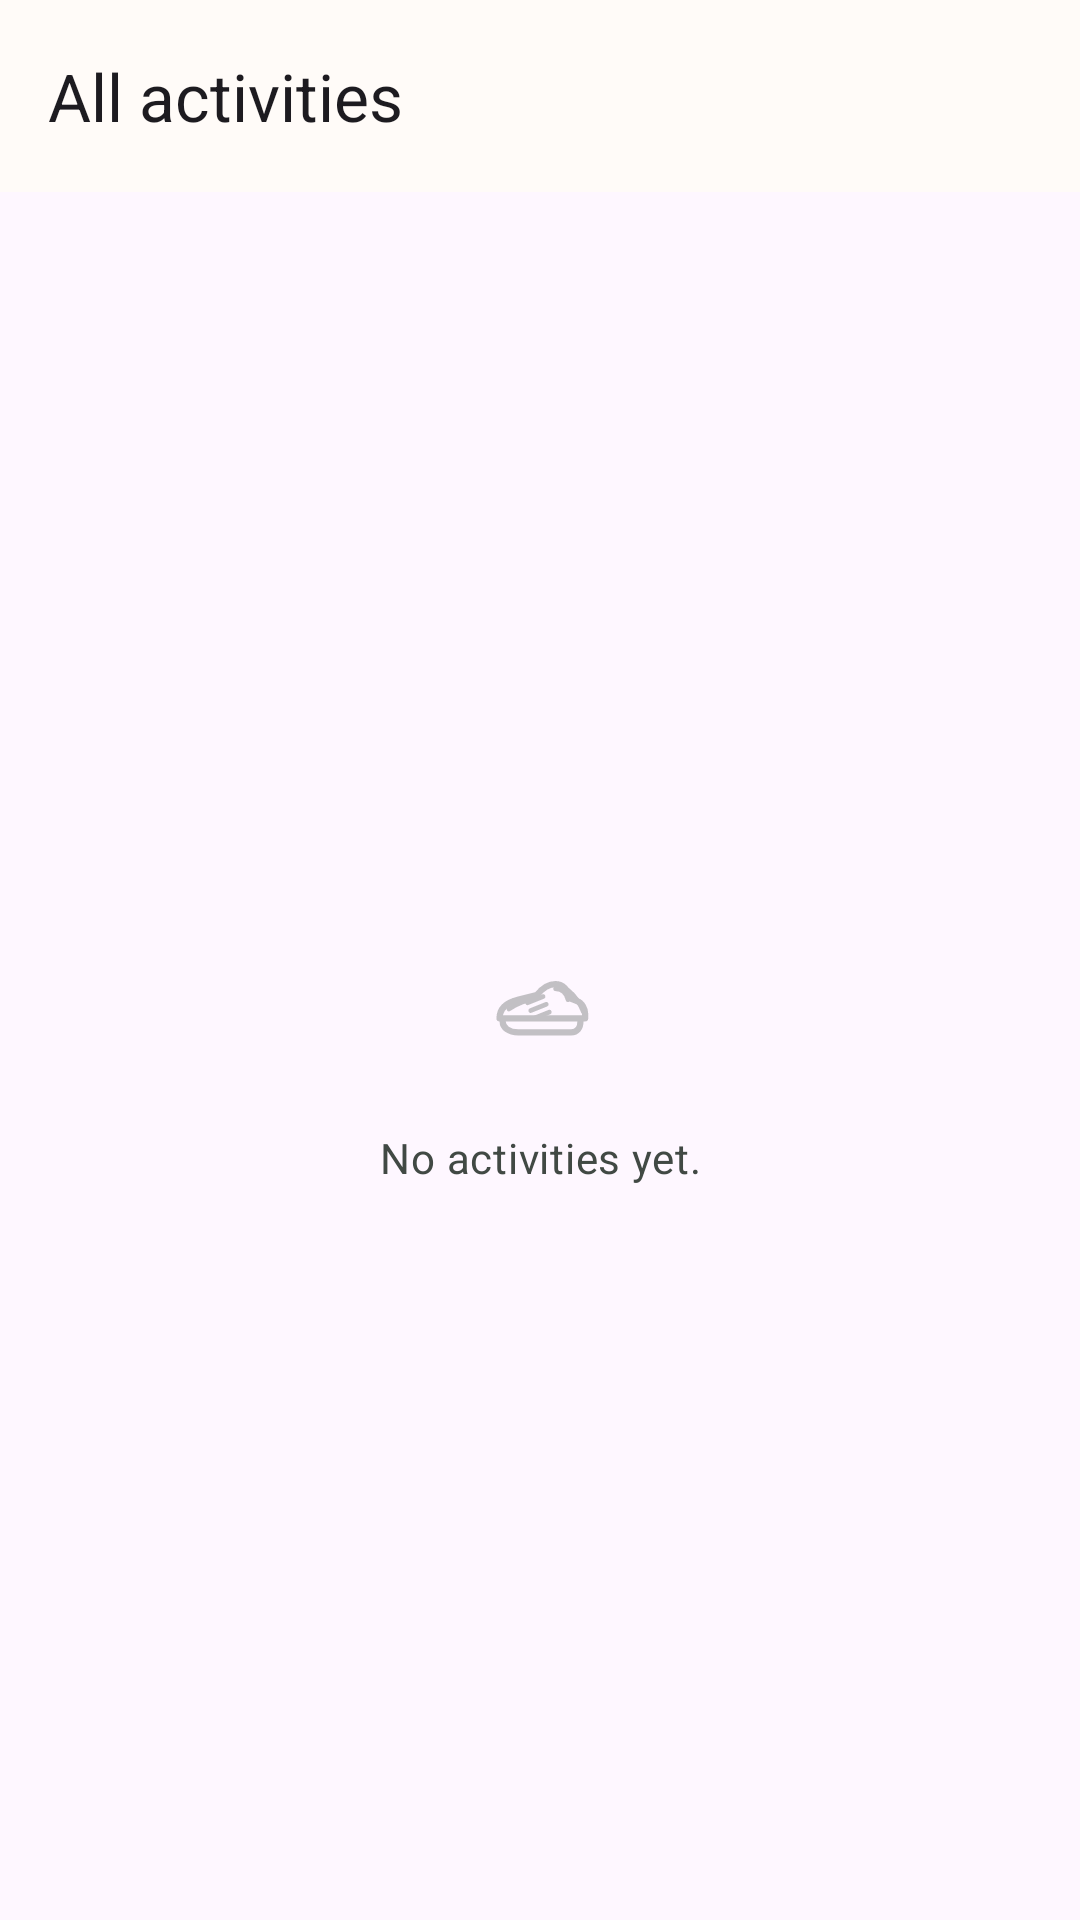

Icons on this 1080px x 1920px Android screen, each with its box as (x1, y1, x2, y2):
shoe: (496, 981, 588, 1036)
